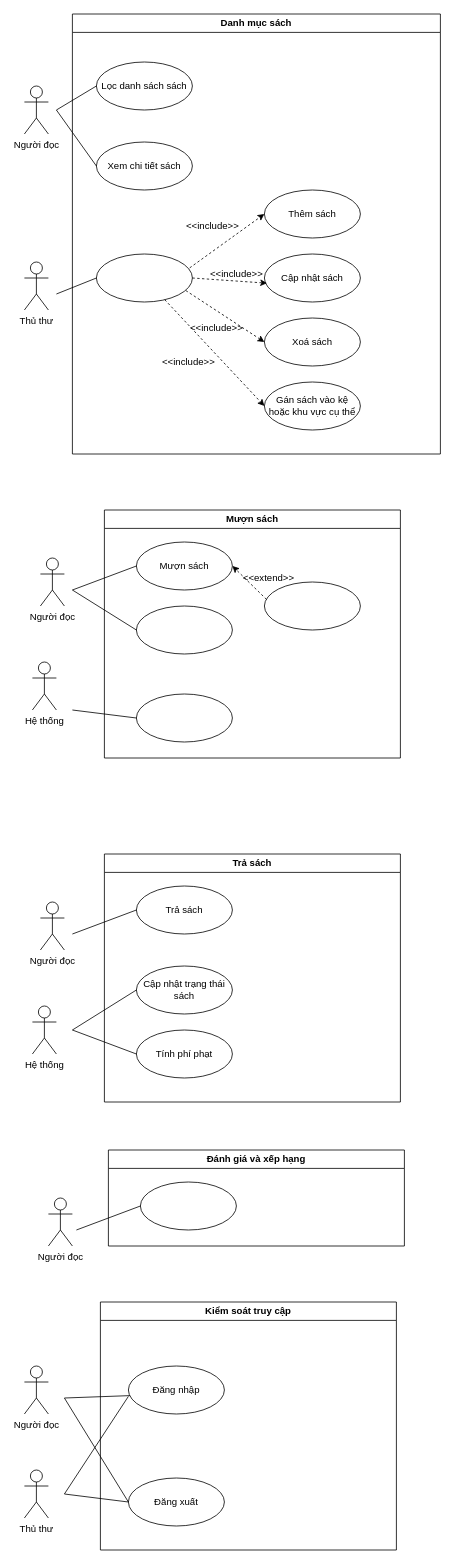
This 454x1564 diagram has some shape labels left out. Each missing label, with the centre of its shape:
Gửi mail cho người đọc: the point at 184,717
Quản lý sách: the point at 144,277
Xem sách đã mượn: the point at 312,605
Đánh giá sách: the point at 188,1205
Đặt trước sách: the point at 184,629
